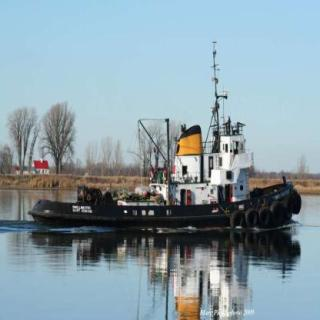Tug Boat: (43, 62, 304, 226)
